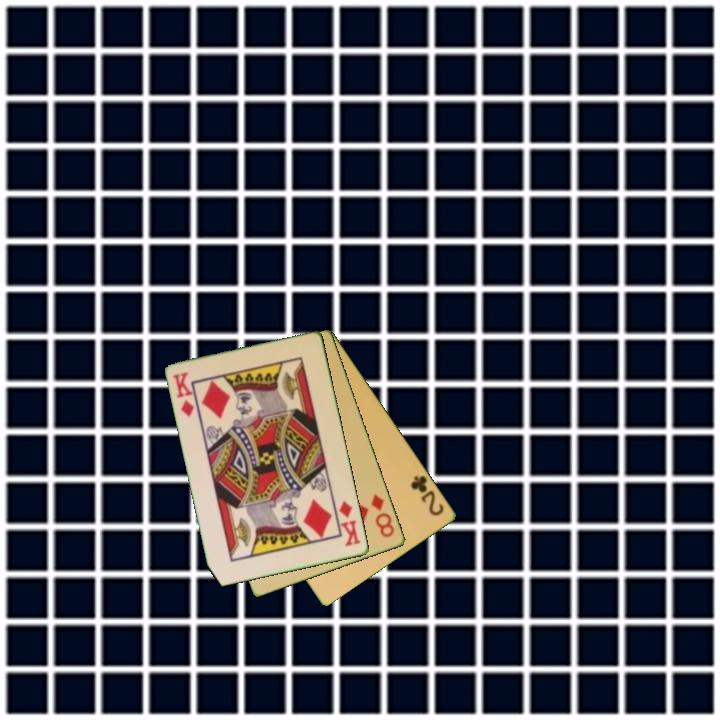2c: (407, 472, 447, 519)
8d: (368, 490, 398, 541)
Kd: (336, 497, 364, 549), (169, 369, 197, 420)
